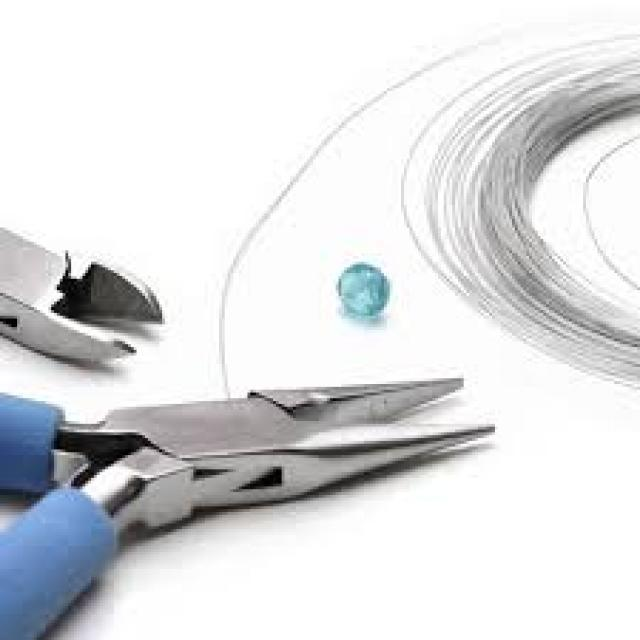pliers: (0, 364, 492, 586)
